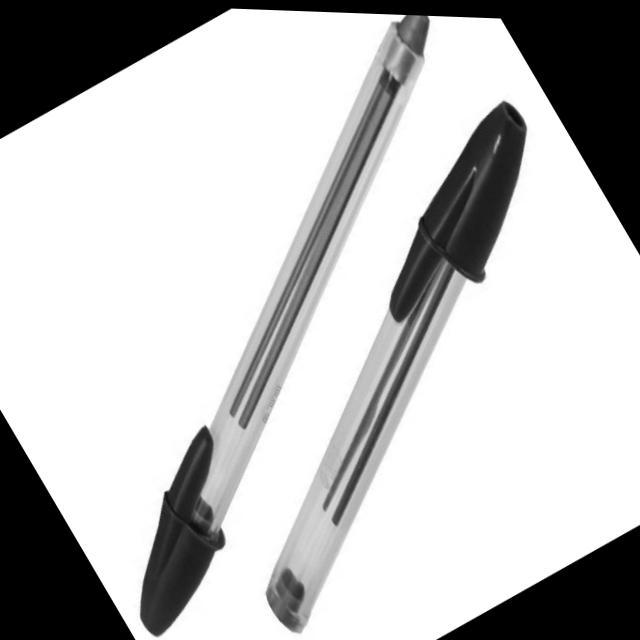pencil: (135, 10, 437, 640), (259, 95, 532, 640)
